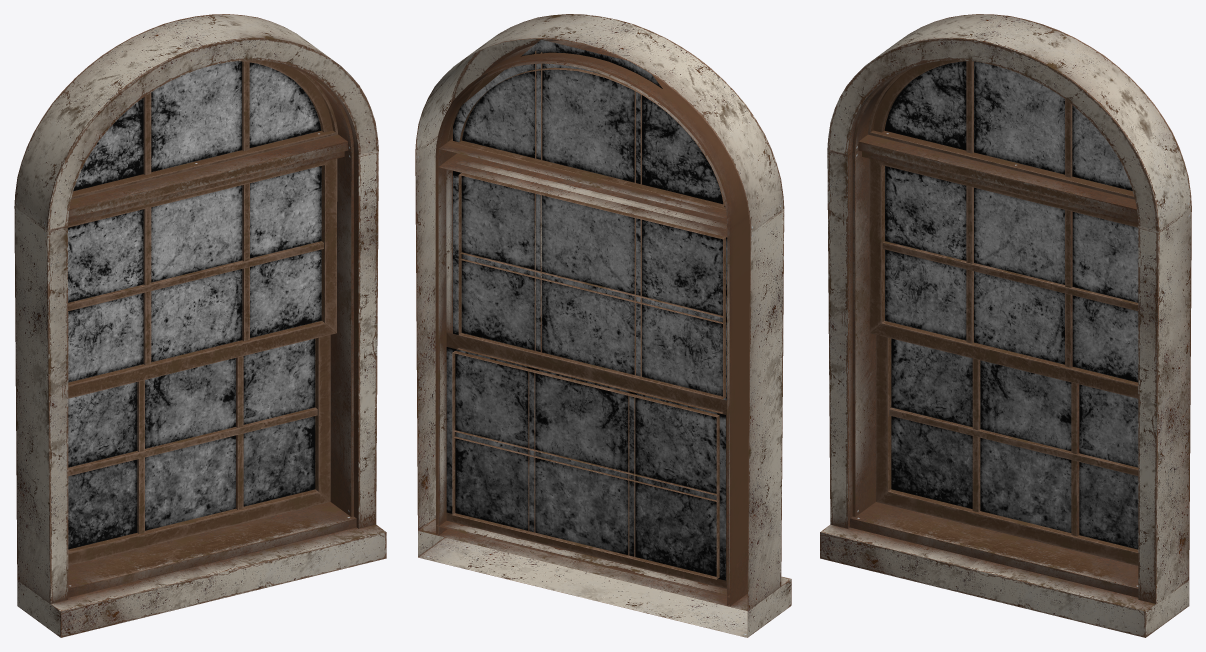
Rendered from game-ready_old_wood_window.glb.
3 renders of one model, left to right at view 1: azimuth 30°, elevation 25°; view 2: azimuth 150°, elevation 25°; view 3: azimuth 330°, elevation 25°, orthographic.
Visible parts, largest first — view 1: Window_1-bo; view 2: Window_1-bo; view 3: Window_1-bo.
Boxes of the visible parts, x1,y1,x2,y2 form: Window_1-bo: (14, 14, 386, 637); Window_1-bo: (415, 14, 791, 637); Window_1-bo: (820, 14, 1191, 637).
Size of the model in its own units: 1 by 1.58 by 0.2281.
Materials: 2 (2 with a texture image).
